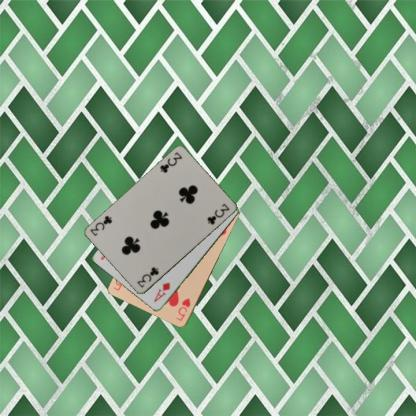3c: (134, 265, 160, 289), (157, 150, 183, 174)
5h: (173, 296, 192, 322)
Ad: (151, 280, 171, 303)
